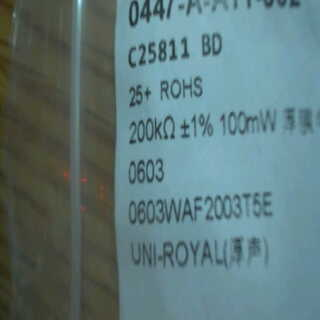200kR: (123, 113, 176, 145)
